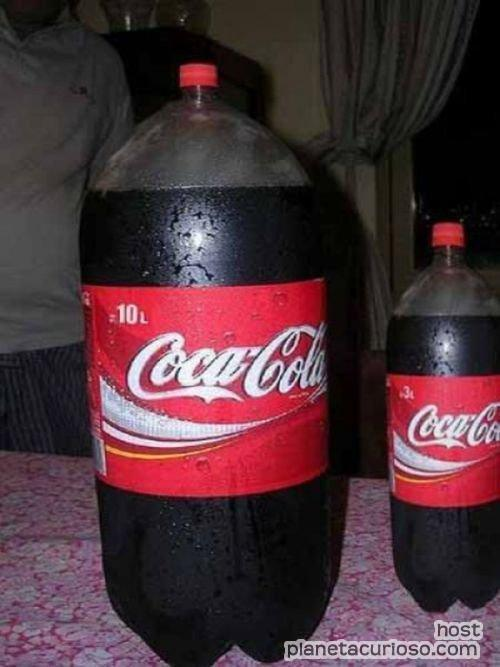coke: (85, 71, 344, 651), (395, 234, 500, 605)
